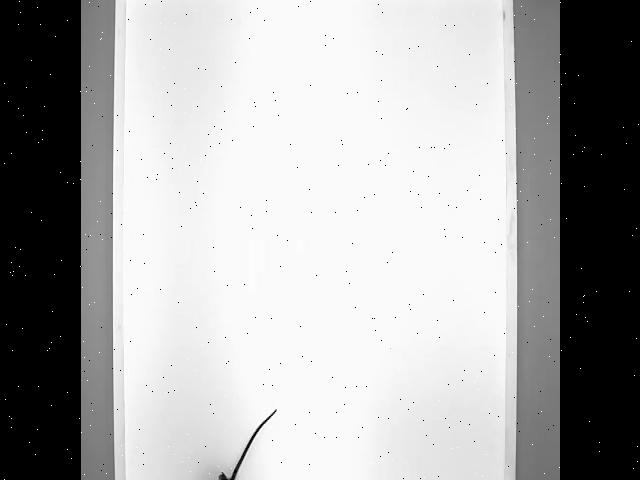Tikus: (195, 403, 282, 480)
